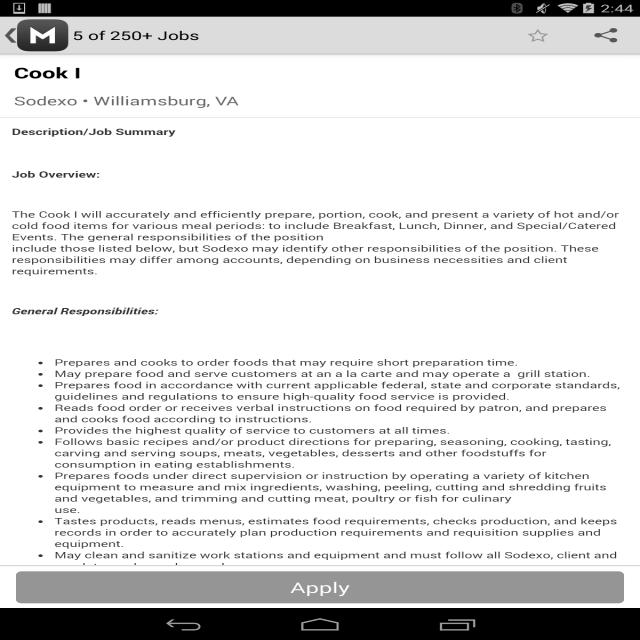Button: (16, 572, 624, 604)
ImageView: (17, 19, 68, 52), (0, 25, 21, 46)
TextView: (77, 92, 626, 109), (571, 16, 640, 54), (503, 17, 572, 54), (72, 27, 200, 43), (14, 63, 81, 82), (14, 92, 77, 109)
